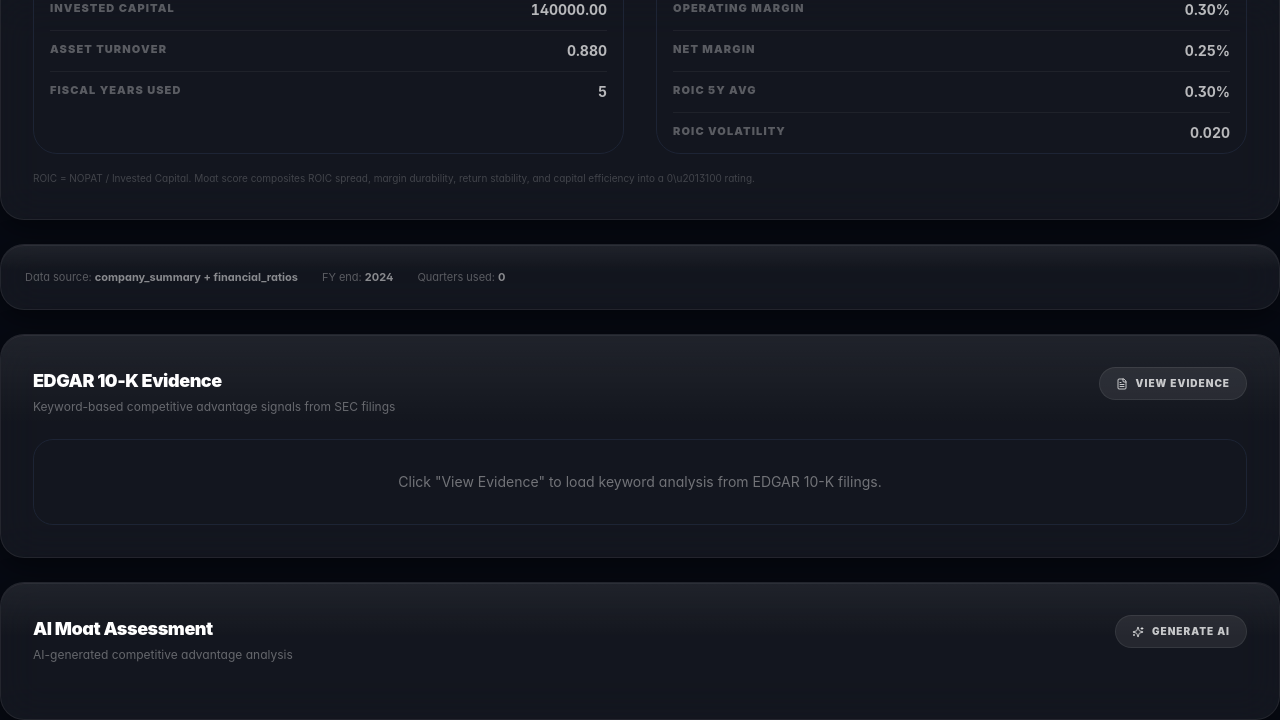
Test: MoatPanel — FT-01 to FT-15 › FT-13: shows error when AI narrative fetch fails
(page scrolled)
Click the button "Generate AI" at (1181, 632), box [1115,615,1247,648]
(page scrolled)
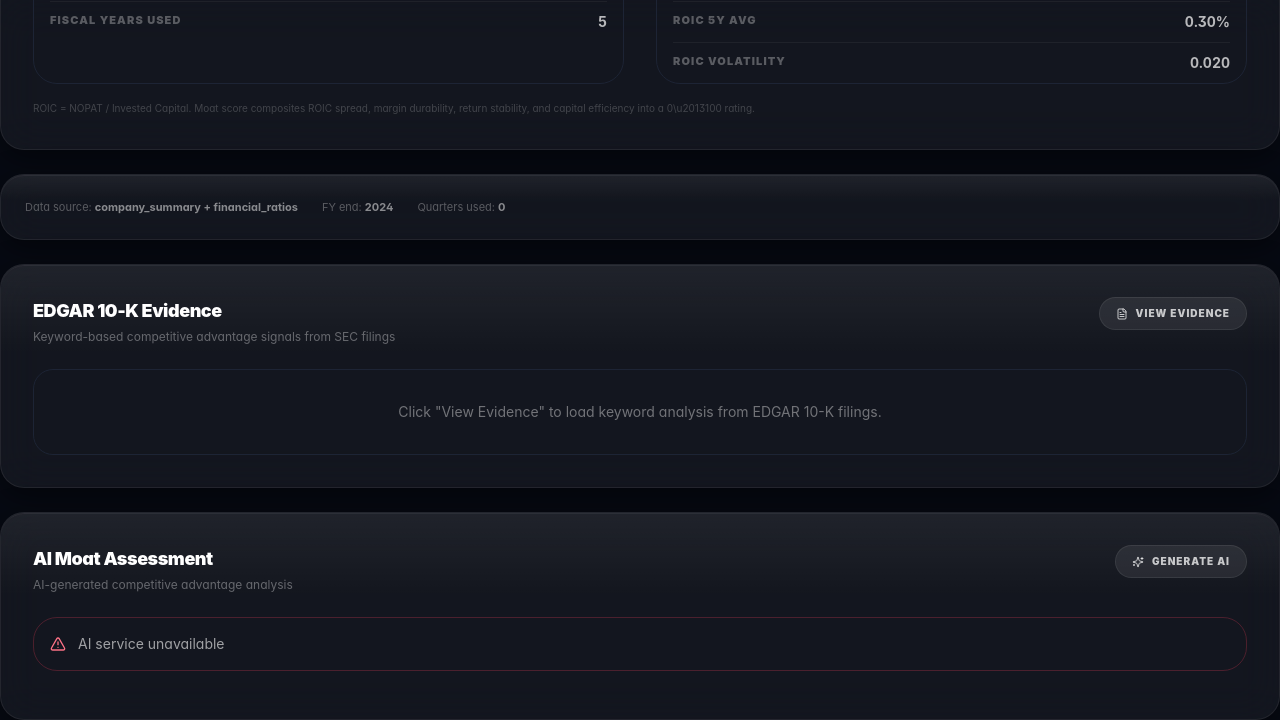
Now the text "AI service unavailable" is shown, box [78,634,224,654]
